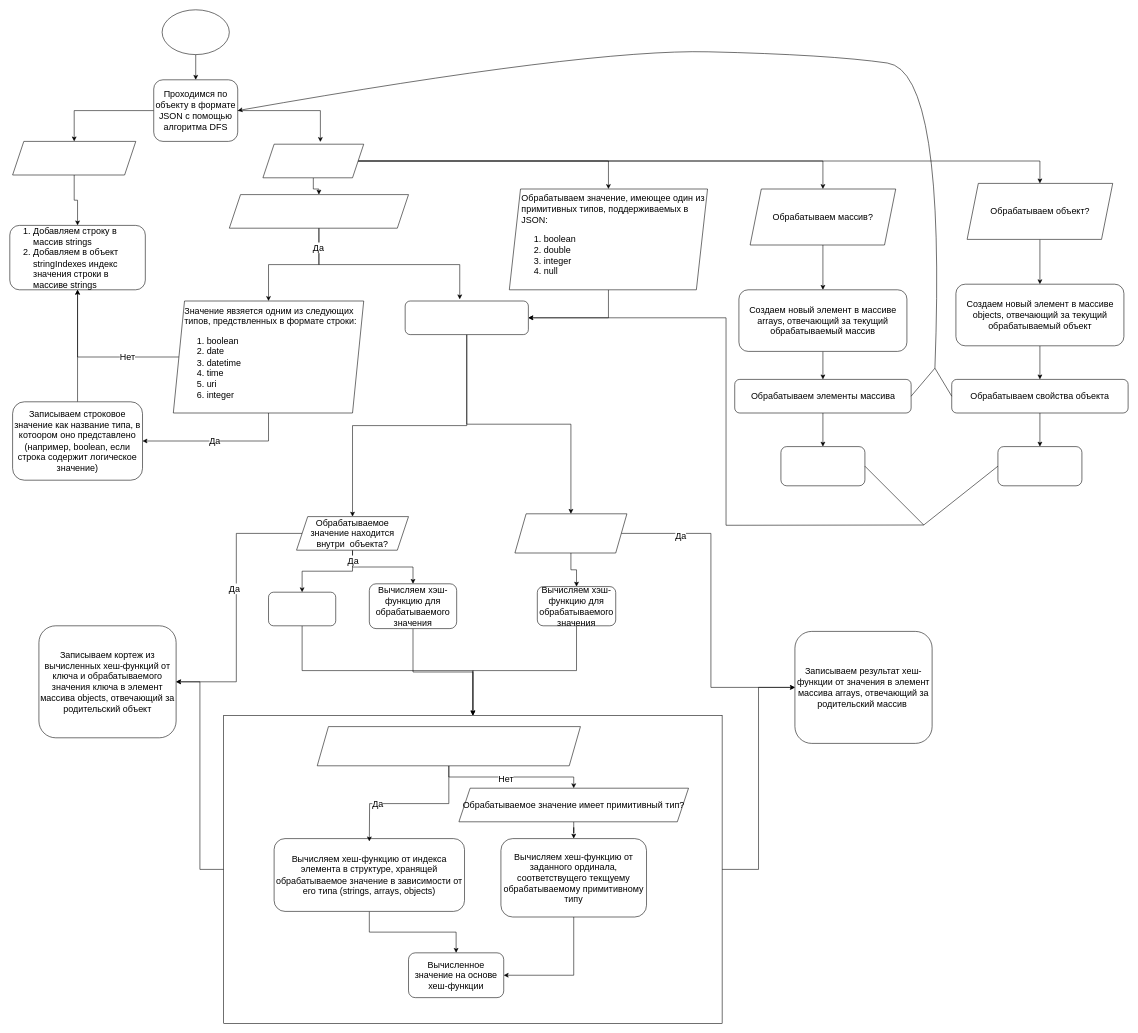
Some shapes in this 1138 by 1033 pixel diagram are drawn without their labels. Here are the shapes that lost their labels. From the top down, the centre of each, then its label:
At (195,32): "JSON файл".
At (74,158): "Обрабатываем ключ?".
At (313,161): "Обрабатываем значение?".
At (319,211): "Обрабатываем строковое значение?".
At (466,317): "Записываем значение в соотвествующуюю родительскую структуру".
At (822,466): "Завершение обработки массива".
At (1039,466): "Завершение обработки объекта".
At (570,533): "Обрабатываемое значение находится внутри массива?".
At (302,609): "Вычисляем хэш-функцию для ключа".
At (448,746): "Обрабатываемое значение имеет тип строки, объекта или массива?".
